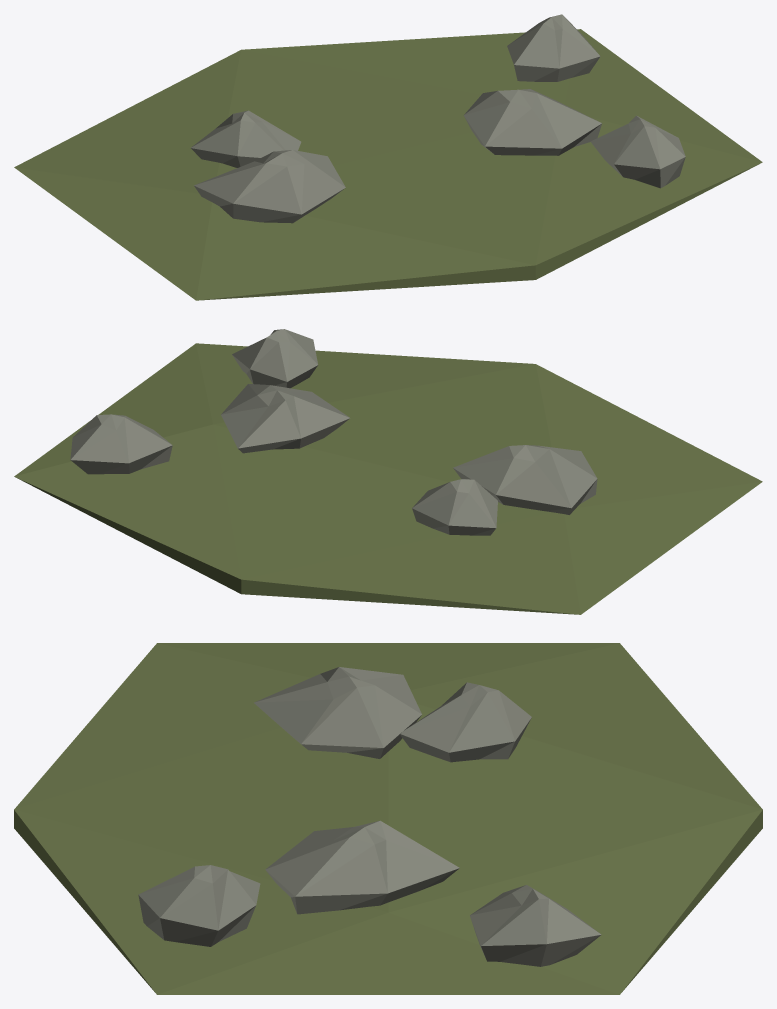
Rendered from stony_ground-far.glb.
3 renders of one model, top to bottom at view 1: azimuth 30°, elevation 25°; view 2: azimuth 150°, elevation 25°; view 3: azimuth 270°, elevation 25°, orthographic. The views are drawn at different scales.
Parts seen in each view (by area): view 1: world-scenery/stony_ground-far; view 2: world-scenery/stony_ground-far; view 3: world-scenery/stony_ground-far.
Part boxes in pixels (x1,y1,x2,y2): world-scenery/stony_ground-far: (14,14,762,300); world-scenery/stony_ground-far: (14,329,762,614); world-scenery/stony_ground-far: (14,643,762,994).
Size of the model in its own units: 5.1 by 0.5541 by 4.59.
